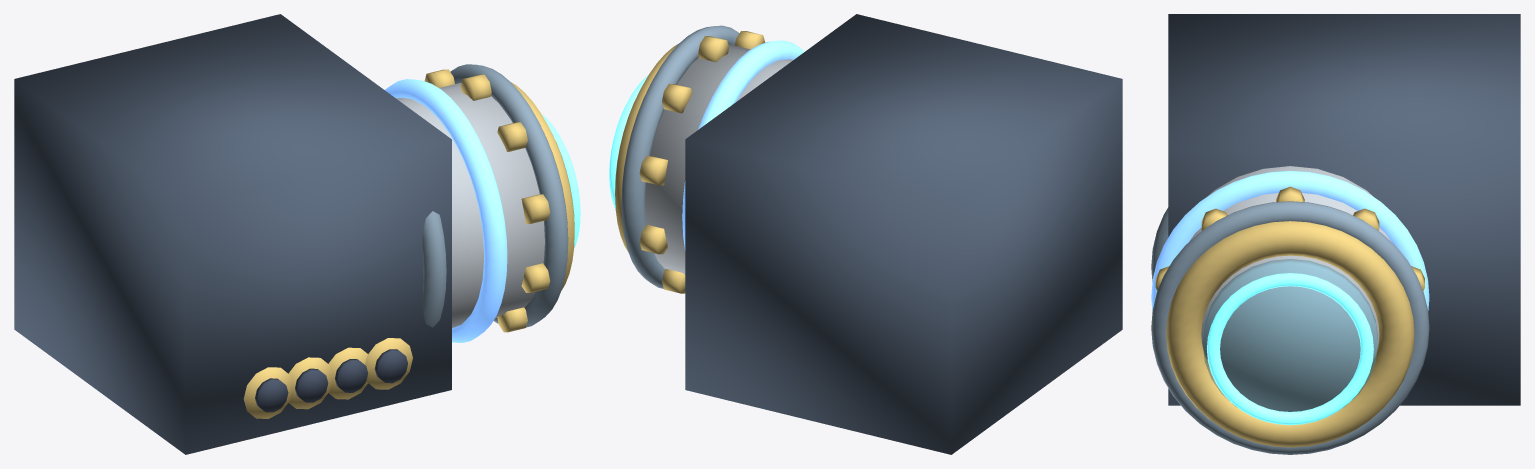
File: 38_L85_PrimaryScanningLiDAR.glb
The picture shows the model from 3 angles, left to right: view 1: azimuth 30°, elevation 25°; view 2: azimuth 150°, elevation 25°; view 3: azimuth 270°, elevation 25°; orthographic projection. The views are drawn at different scales.
Visible parts, largest first — view 1: L85_PrimaryScanningLiDAR_Part_0000, L85_PrimaryScanningLiDAR_Part_0001, L85_PrimaryScanningLiDAR_Part_0005, L85_PrimaryScanningLiDAR_Part_0006, L85_PrimaryScanningLiDAR_Part_0002, L85_PrimaryScanningLiDAR_Part_0007, L85_PrimaryScanningLiDAR_Part_0013, L85_PrimaryScanningLiDAR_Part_0009, L85_PrimaryScanningLiDAR_Part_0004, L85_PrimaryScanningLiDAR_Part_0008, L85_PrimaryScanningLiDAR_Part_0010, L85_PrimaryScanningLiDAR_Part_0014 (+2 smaller); view 2: L85_PrimaryScanningLiDAR_Part_0000, L85_PrimaryScanningLiDAR_Part_0001, L85_PrimaryScanningLiDAR_Part_0005, L85_PrimaryScanningLiDAR_Part_0002, L85_PrimaryScanningLiDAR_Part_0006, L85_PrimaryScanningLiDAR_Part_0004; view 3: L85_PrimaryScanningLiDAR_Part_0000, L85_PrimaryScanningLiDAR_Part_0002, L85_PrimaryScanningLiDAR_Part_0001, L85_PrimaryScanningLiDAR_Part_0003, L85_PrimaryScanningLiDAR_Part_0005, L85_PrimaryScanningLiDAR_Part_0006, L85_PrimaryScanningLiDAR_Part_0004.
Part boxes in pixels (bbox=[...]): L85_PrimaryScanningLiDAR_Part_0000: bbox=[14, 14, 451, 454]; L85_PrimaryScanningLiDAR_Part_0001: bbox=[396, 83, 544, 328]; L85_PrimaryScanningLiDAR_Part_0005: bbox=[422, 64, 568, 327]; L85_PrimaryScanningLiDAR_Part_0006: bbox=[385, 79, 507, 342]; L85_PrimaryScanningLiDAR_Part_0002: bbox=[424, 69, 574, 332]; L85_PrimaryScanningLiDAR_Part_0007: bbox=[243, 367, 293, 418]; L85_PrimaryScanningLiDAR_Part_0013: bbox=[365, 338, 412, 389]; L85_PrimaryScanningLiDAR_Part_0009: bbox=[288, 357, 332, 409]; L85_PrimaryScanningLiDAR_Part_0004: bbox=[541, 113, 580, 248]; L85_PrimaryScanningLiDAR_Part_0008: bbox=[255, 378, 288, 412]; L85_PrimaryScanningLiDAR_Part_0010: bbox=[295, 368, 328, 402]; L85_PrimaryScanningLiDAR_Part_0014: bbox=[374, 349, 407, 383]; L85_PrimaryScanningLiDAR_Part_0000: bbox=[685, 14, 1122, 454]; L85_PrimaryScanningLiDAR_Part_0001: bbox=[644, 44, 792, 274]; L85_PrimaryScanningLiDAR_Part_0005: bbox=[621, 25, 739, 288]; L85_PrimaryScanningLiDAR_Part_0002: bbox=[615, 31, 765, 293]; L85_PrimaryScanningLiDAR_Part_0006: bbox=[682, 40, 804, 250]; L85_PrimaryScanningLiDAR_Part_0004: bbox=[609, 75, 648, 209]; L85_PrimaryScanningLiDAR_Part_0000: bbox=[1168, 14, 1520, 405]; L85_PrimaryScanningLiDAR_Part_0002: bbox=[1155, 186, 1424, 447]; L85_PrimaryScanningLiDAR_Part_0001: bbox=[1189, 166, 1391, 411]; L85_PrimaryScanningLiDAR_Part_0003: bbox=[1203, 259, 1377, 411]; L85_PrimaryScanningLiDAR_Part_0005: bbox=[1151, 201, 1429, 454]; L85_PrimaryScanningLiDAR_Part_0006: bbox=[1151, 170, 1429, 311]; L85_PrimaryScanningLiDAR_Part_0004: bbox=[1207, 273, 1373, 425].
Size of the model in its own units: 1.09 by 0.63 by 0.818.
